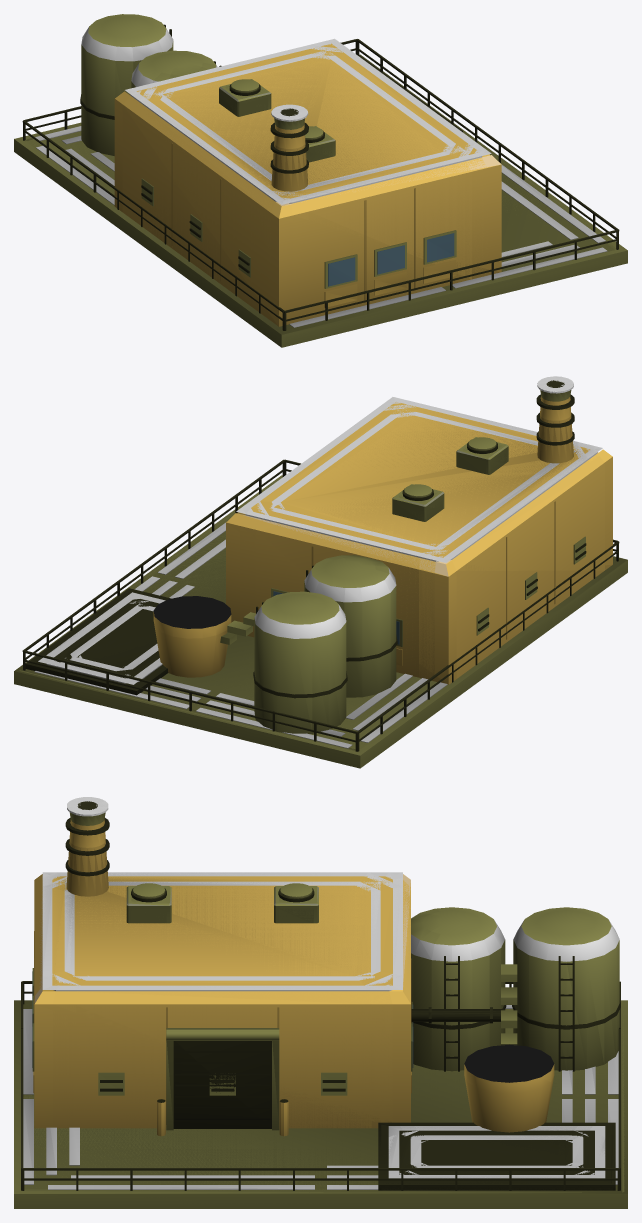
File: meridian_refinery.glb
3 views of the same model, one above another, from view 1: azimuth 30°, elevation 25°; view 2: azimuth 150°, elevation 25°; view 3: azimuth 270°, elevation 25° (orthographic). The views are drawn at different scales.
Visible parts, largest first — view 1: body (×3); view 2: body (×3); view 3: body (×3).
Part boxes in pixels (x1=…): body (×3): x1=14, y1=14, x2=627, y2=347; body (×3): x1=14, y1=376, x2=627, y2=768; body (×3): x1=14, y1=797, x2=627, y2=1208.
Bounding box in the file's own units: 11.2 × 6.25 × 15.
